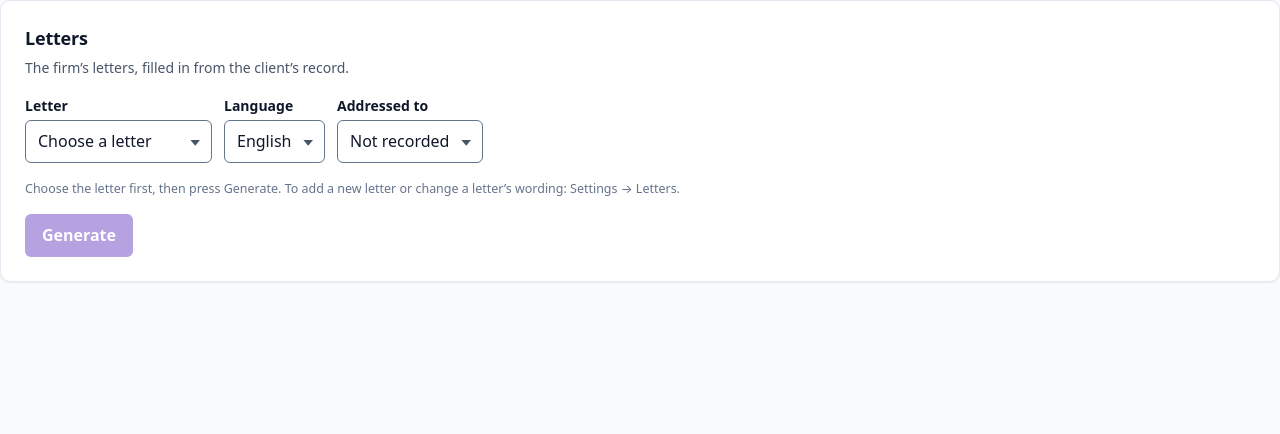
Scenario: the firm’s letters (FR-15) › turns an Arabic letter round to read right to left
Select "Engagement letter" in the dropdown labelled "Letter" at (118, 142), box [25,120,212,163]
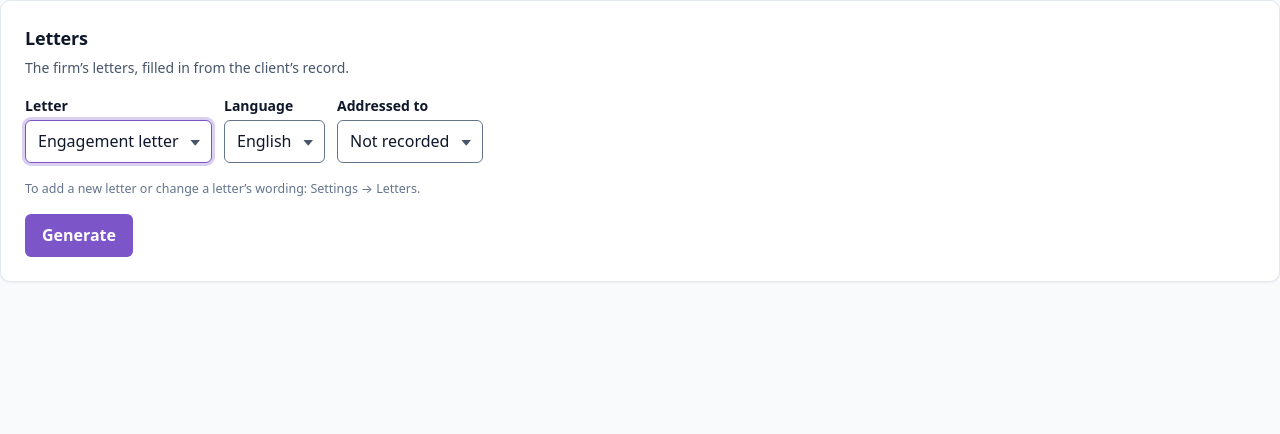
Select "العربية" in the dropdown labelled "Language" at (274, 142), box [224,120,325,163]
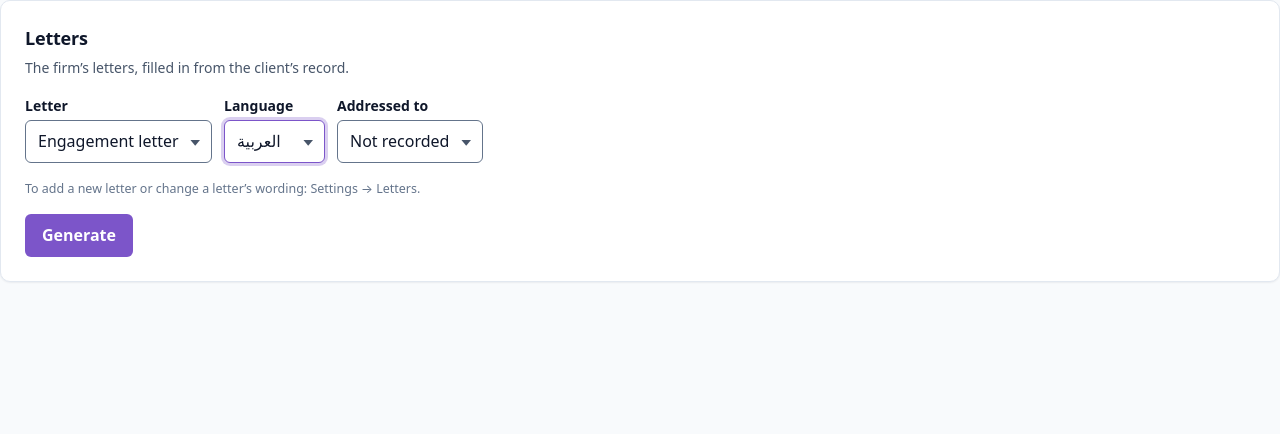
Click the button "Generate" at (79, 236), box [25,214,133,257]
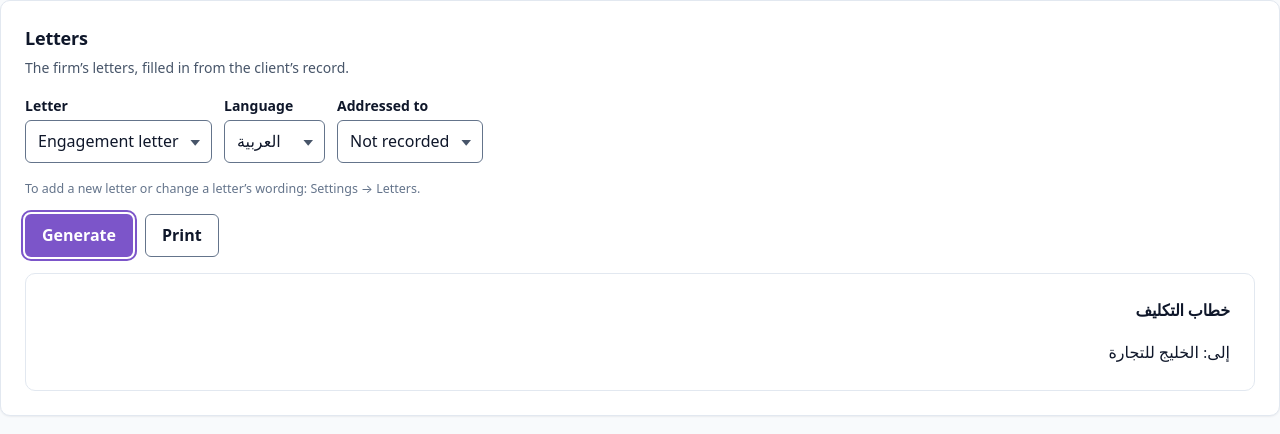
Expected: the heading "خطاب التكليف" is shown, [1136,299,1230,321]
